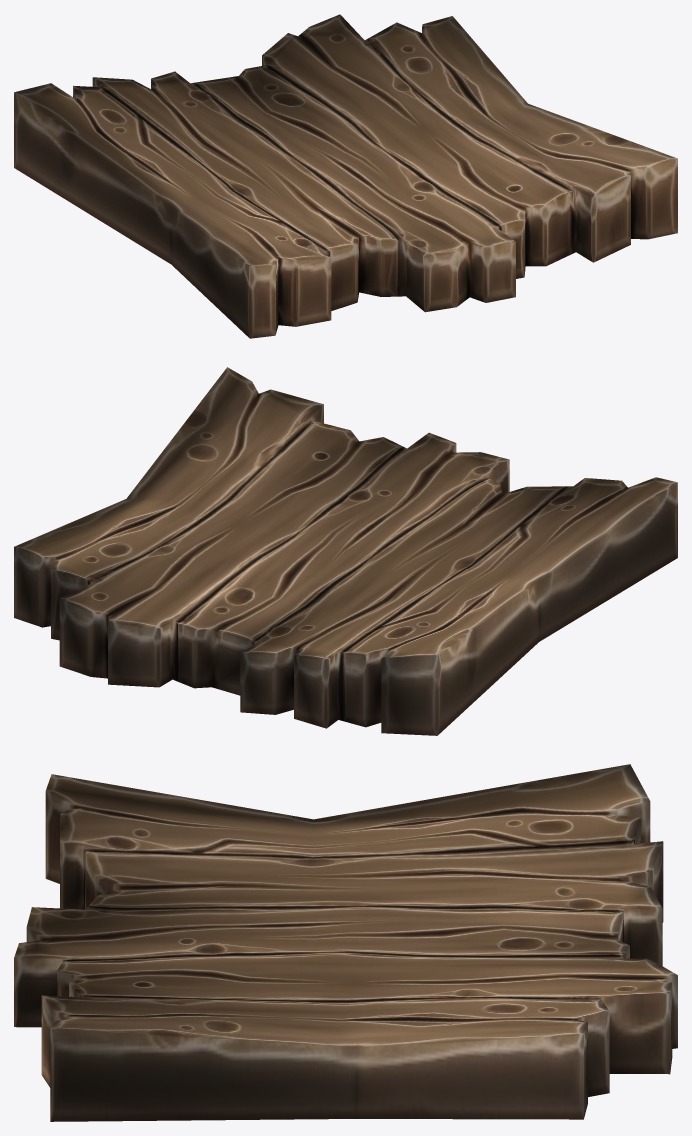
File: wood-floor.glb
3 views of the same model, one above another, from view 1: azimuth 30°, elevation 25°; view 2: azimuth 150°, elevation 25°; view 3: azimuth 270°, elevation 25° (orthographic). The views are drawn at different scales.
Parts seen in each view (by area): view 1: Low; view 2: Low; view 3: Low.
Part boxes in pixels (x1,y1,x2,y2): Low: [14, 14, 677, 338]; Low: [14, 367, 677, 735]; Low: [14, 764, 677, 1121].
Size of the model in its own units: 55.8 by 10.77 by 59.58.
Materials: 1 (1 with a texture image).
